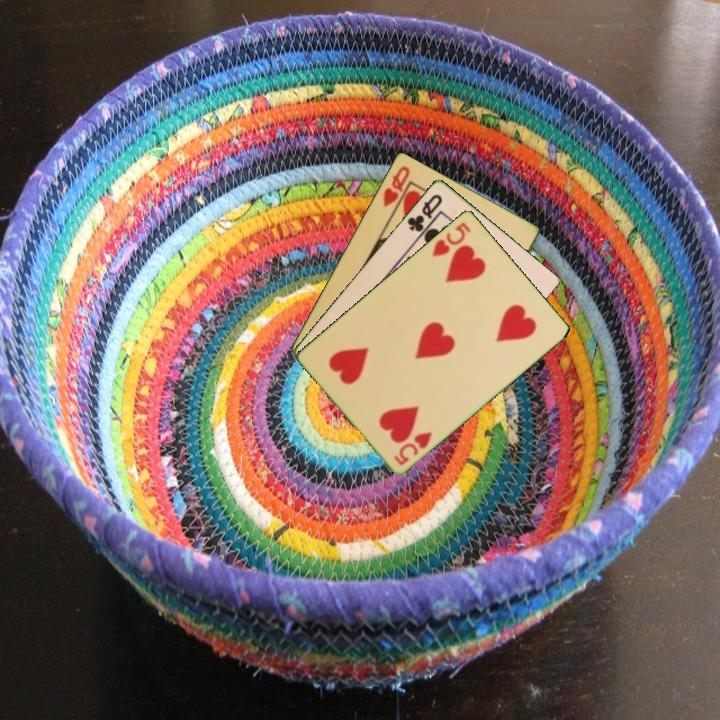5h: (428, 218, 474, 259), (391, 428, 435, 468)
Qc: (403, 190, 445, 240)
Qh: (379, 162, 413, 209)
